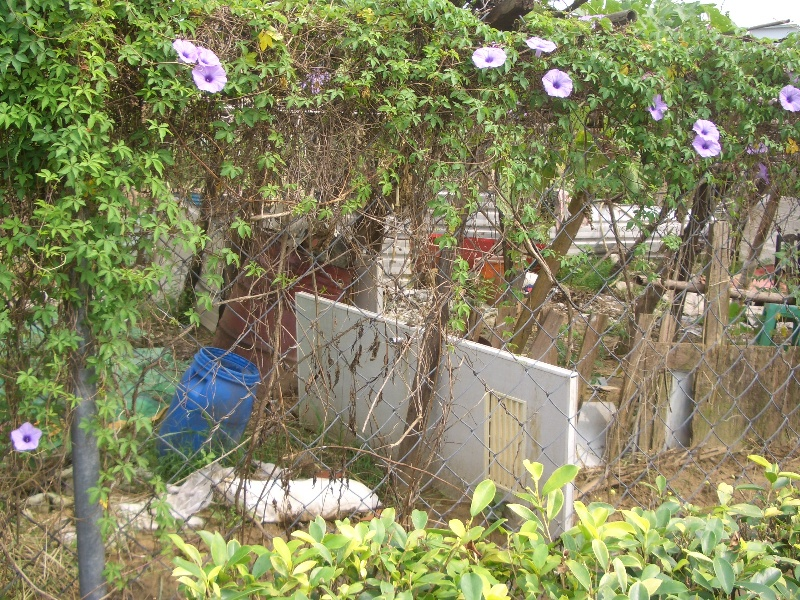bucket: (155, 343, 262, 464)
